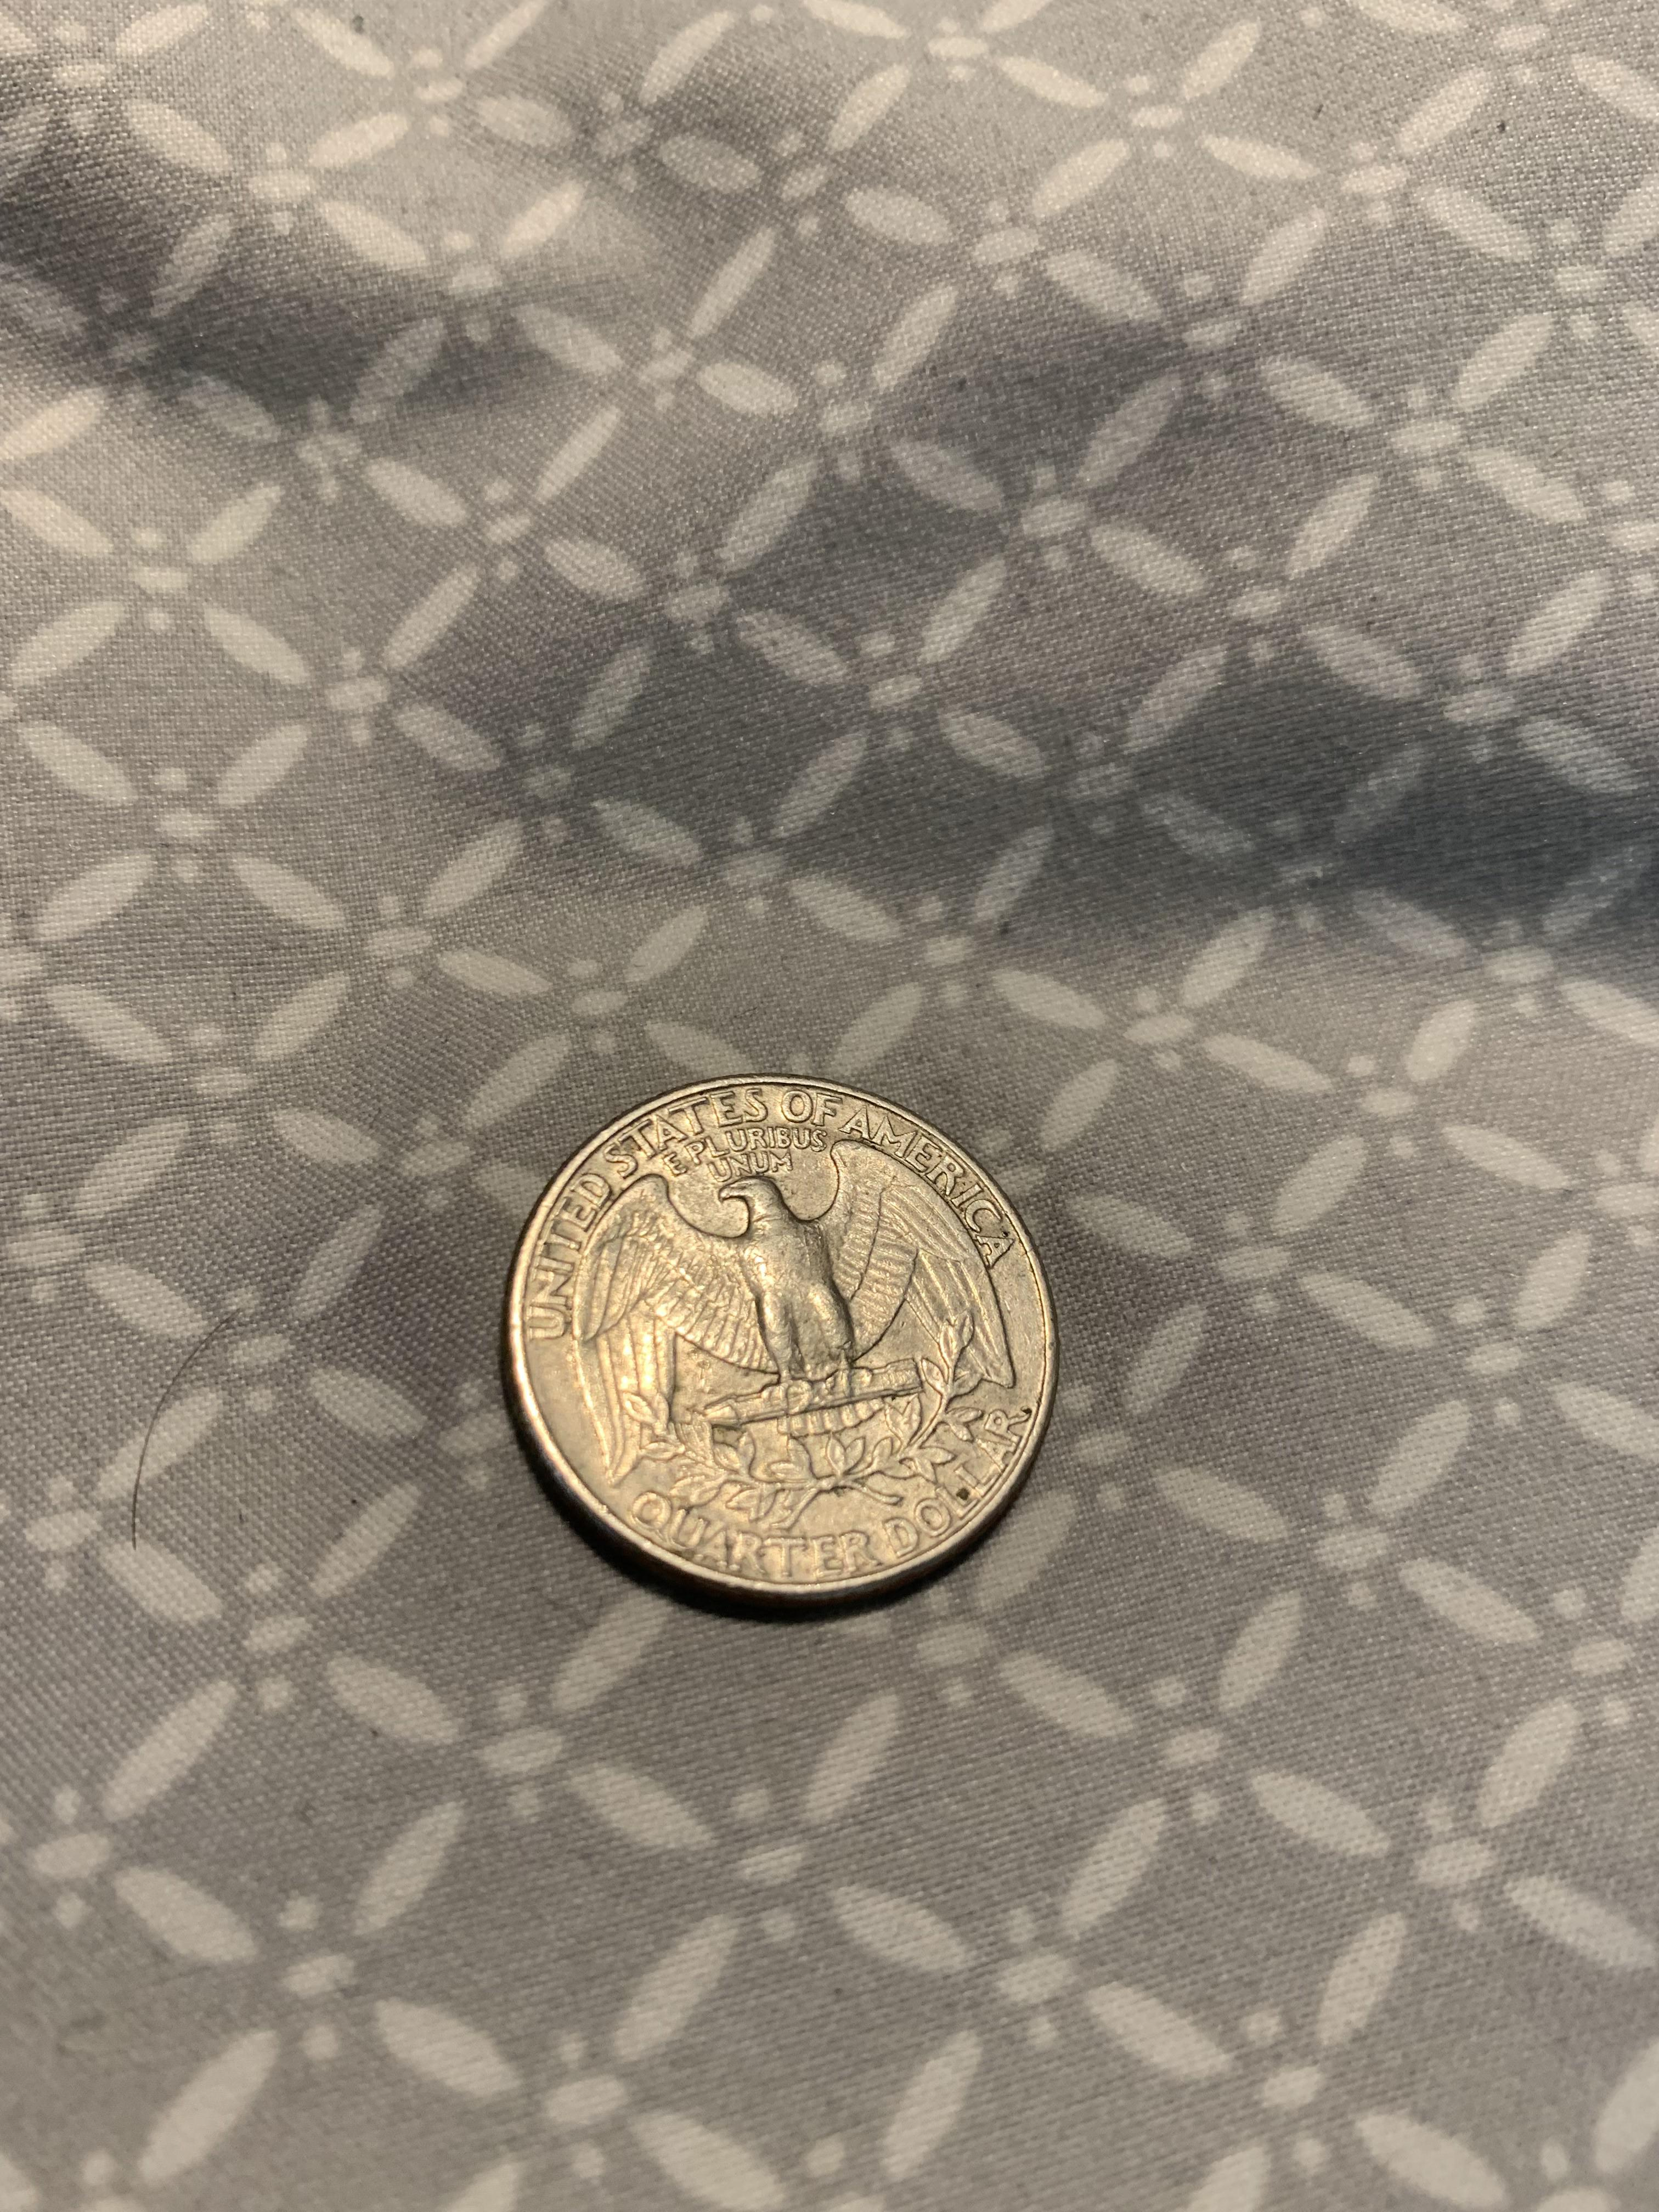Quarter: (465, 1059, 1086, 1641)
